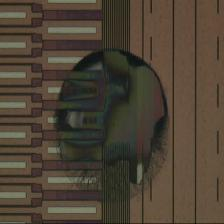PARTICLE: (53, 49, 173, 204)
